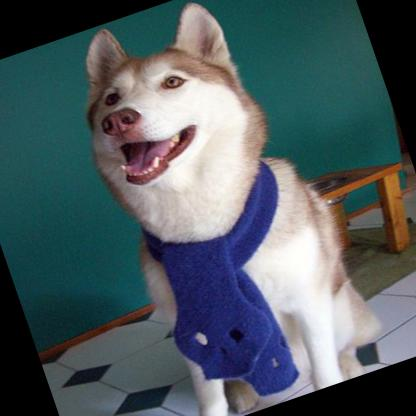Eskimo_dog: (52, 0, 390, 416)
